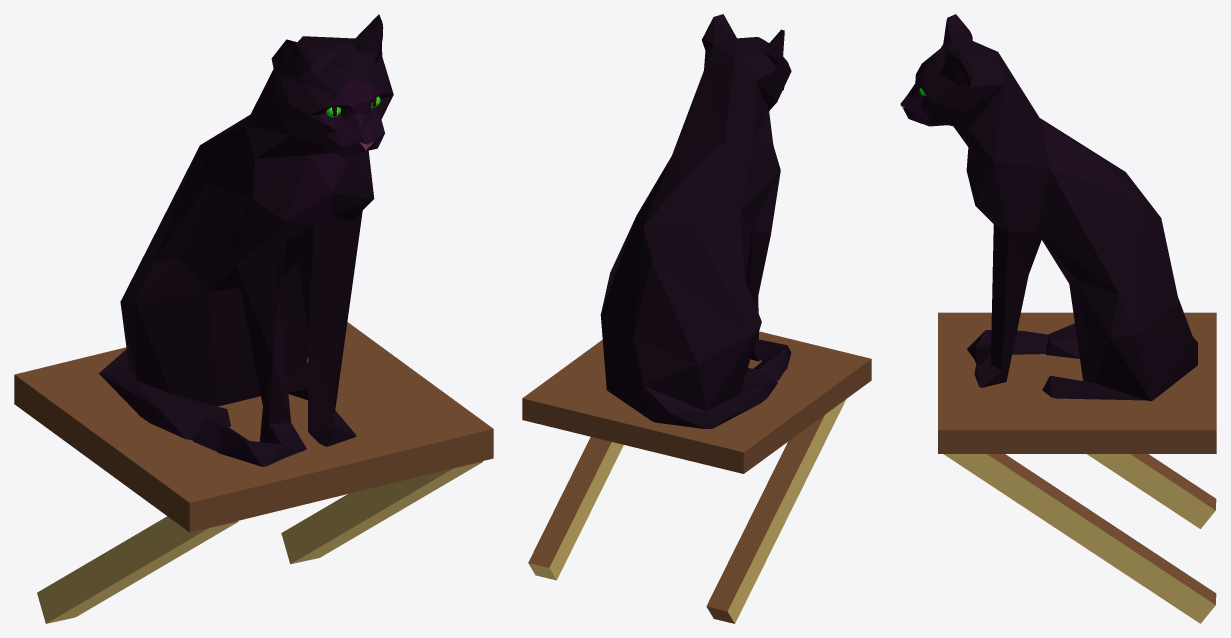
File: (YnZp)GatoNaPrateleiraLowPolly.fbx
3 views of the same model, side by side, from view 1: azimuth 30°, elevation 25°; view 2: azimuth 150°, elevation 25°; view 3: azimuth 270°, elevation 25° (orthographic). The views are drawn at different scales.
Parts seen in each view (by area): view 1: Cube.002; view 2: Cube.002; view 3: Cube.002.
Boxes of the visible parts, x1=… form: Cube.002: x1=14, y1=14, x2=493, y2=623; Cube.002: x1=522, y1=14, x2=871, y2=623; Cube.002: x1=900, y1=14, x2=1216, y2=623.
Size of the model in its own units: 200 by 227 by 426.
